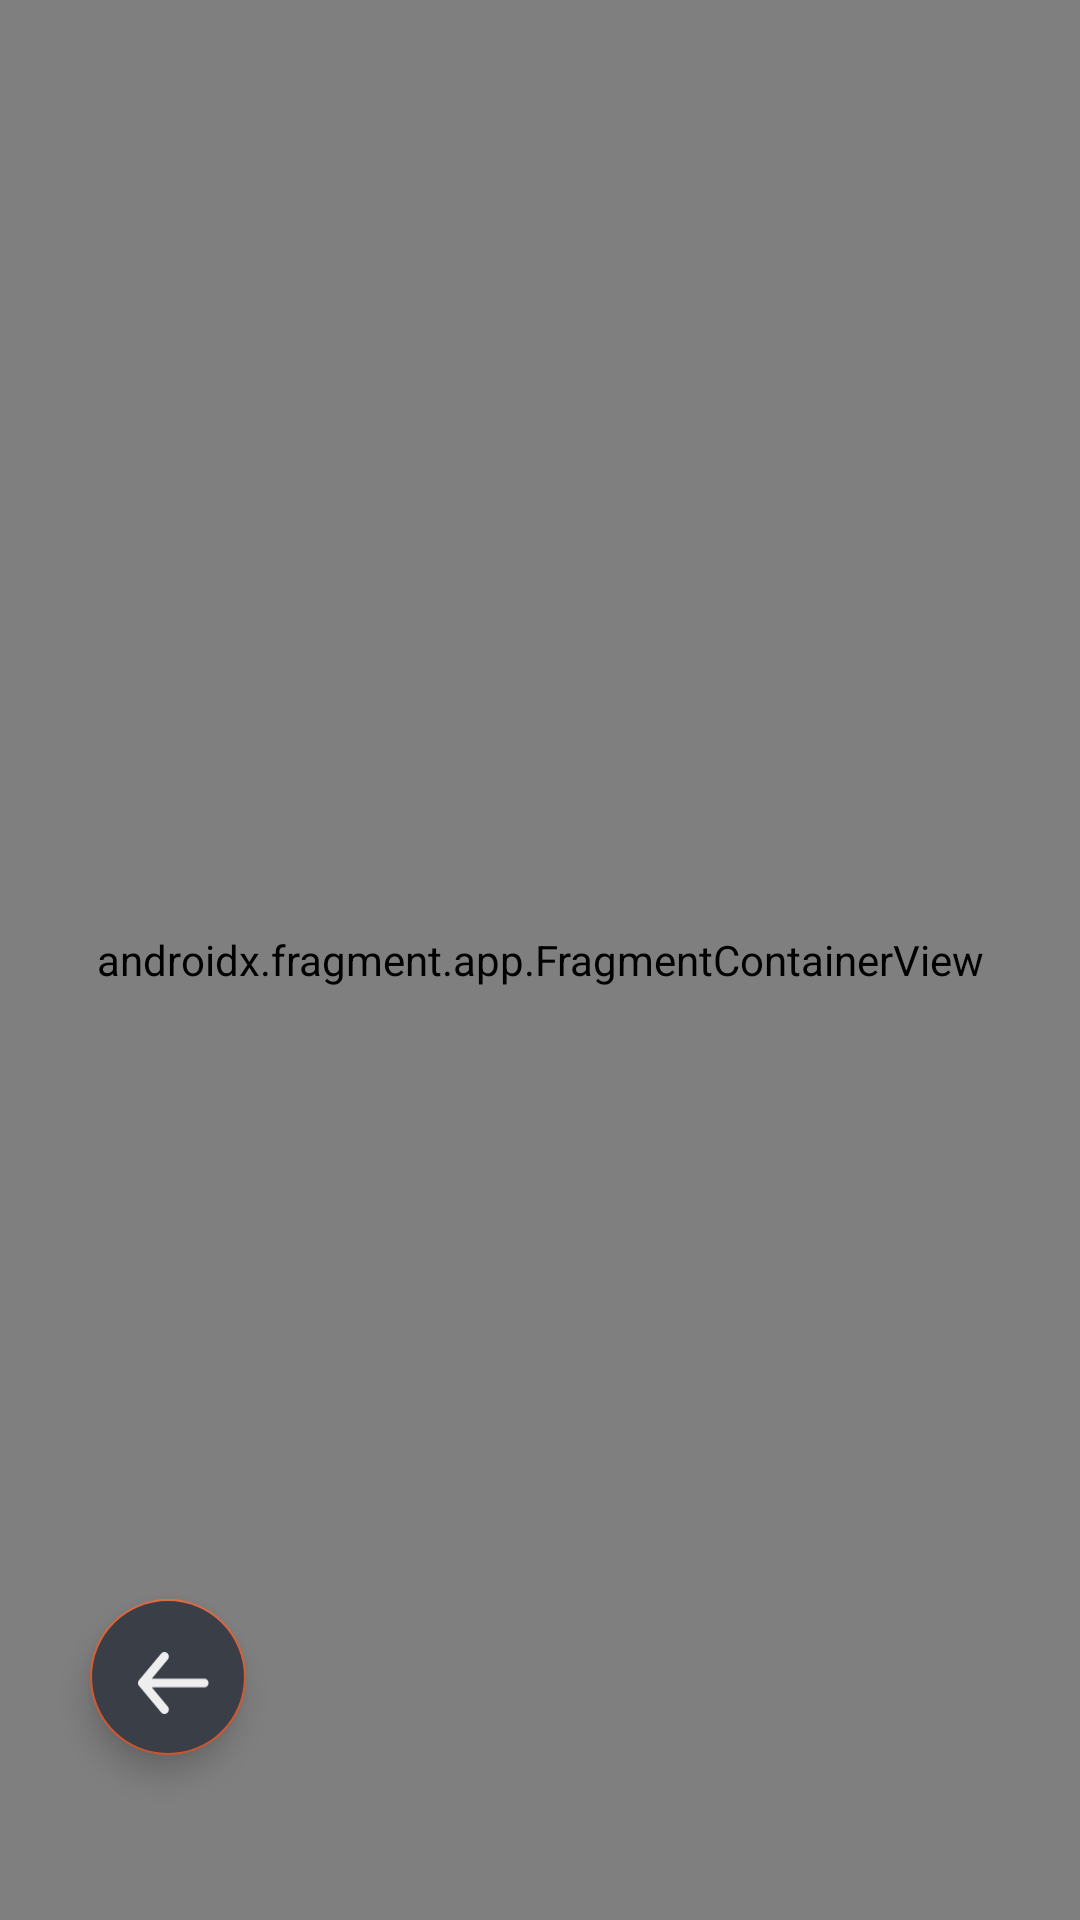

Where to tap for icons on this 1080w x 1920h app screen, as (x,y):
back: (168,1677)
